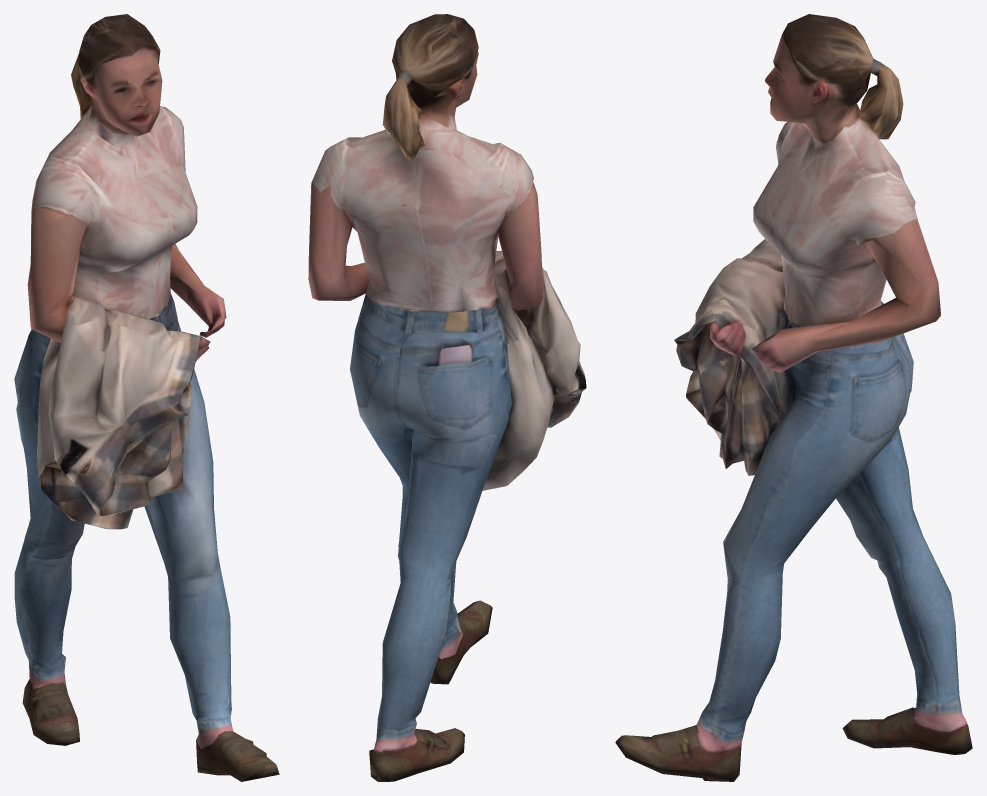
The picture shows the model from 3 angles, left to right: view 1: azimuth 30°, elevation 25°; view 2: azimuth 150°, elevation 25°; view 3: azimuth 270°, elevation 25°; orthographic projection. The views are drawn at different scales.
Visible parts, largest first — view 1: Object_2.003; view 2: Object_2.003; view 3: Object_2.003.
Boxes of the visible parts, x1,y1,x2,y2 form: Object_2.003: (14,14,279,781); Object_2.003: (308,14,586,781); Object_2.003: (615,14,972,781).
Size of the model in its own units: 0.4713 by 1.66 by 0.7252.
Materials: 1 (1 with a texture image).
